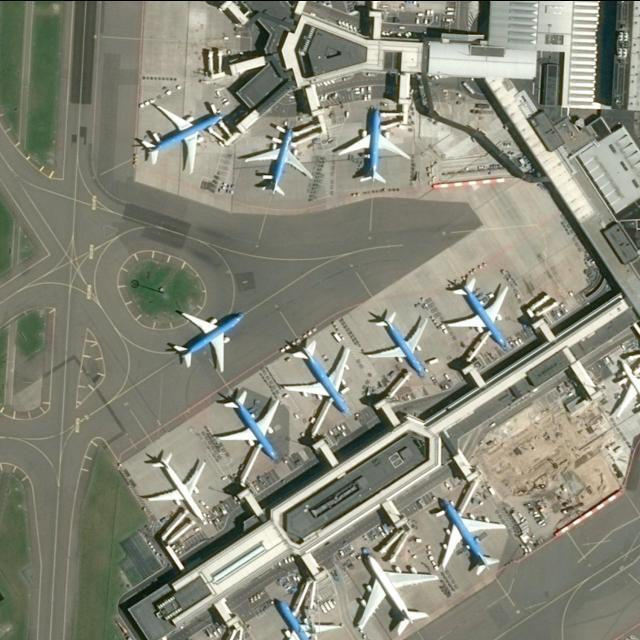Aircraft: (351, 546, 437, 638), (133, 98, 223, 172), (337, 98, 411, 188), (237, 118, 311, 201), (439, 266, 511, 350), (432, 493, 506, 573), (282, 332, 352, 414), (168, 302, 246, 374), (210, 384, 280, 463), (139, 444, 207, 525), (364, 303, 430, 377), (269, 592, 341, 640)
